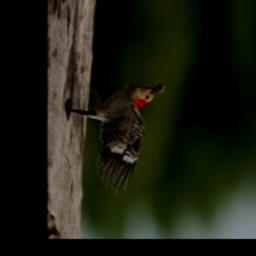Woodpecker: (69, 82, 156, 197)
